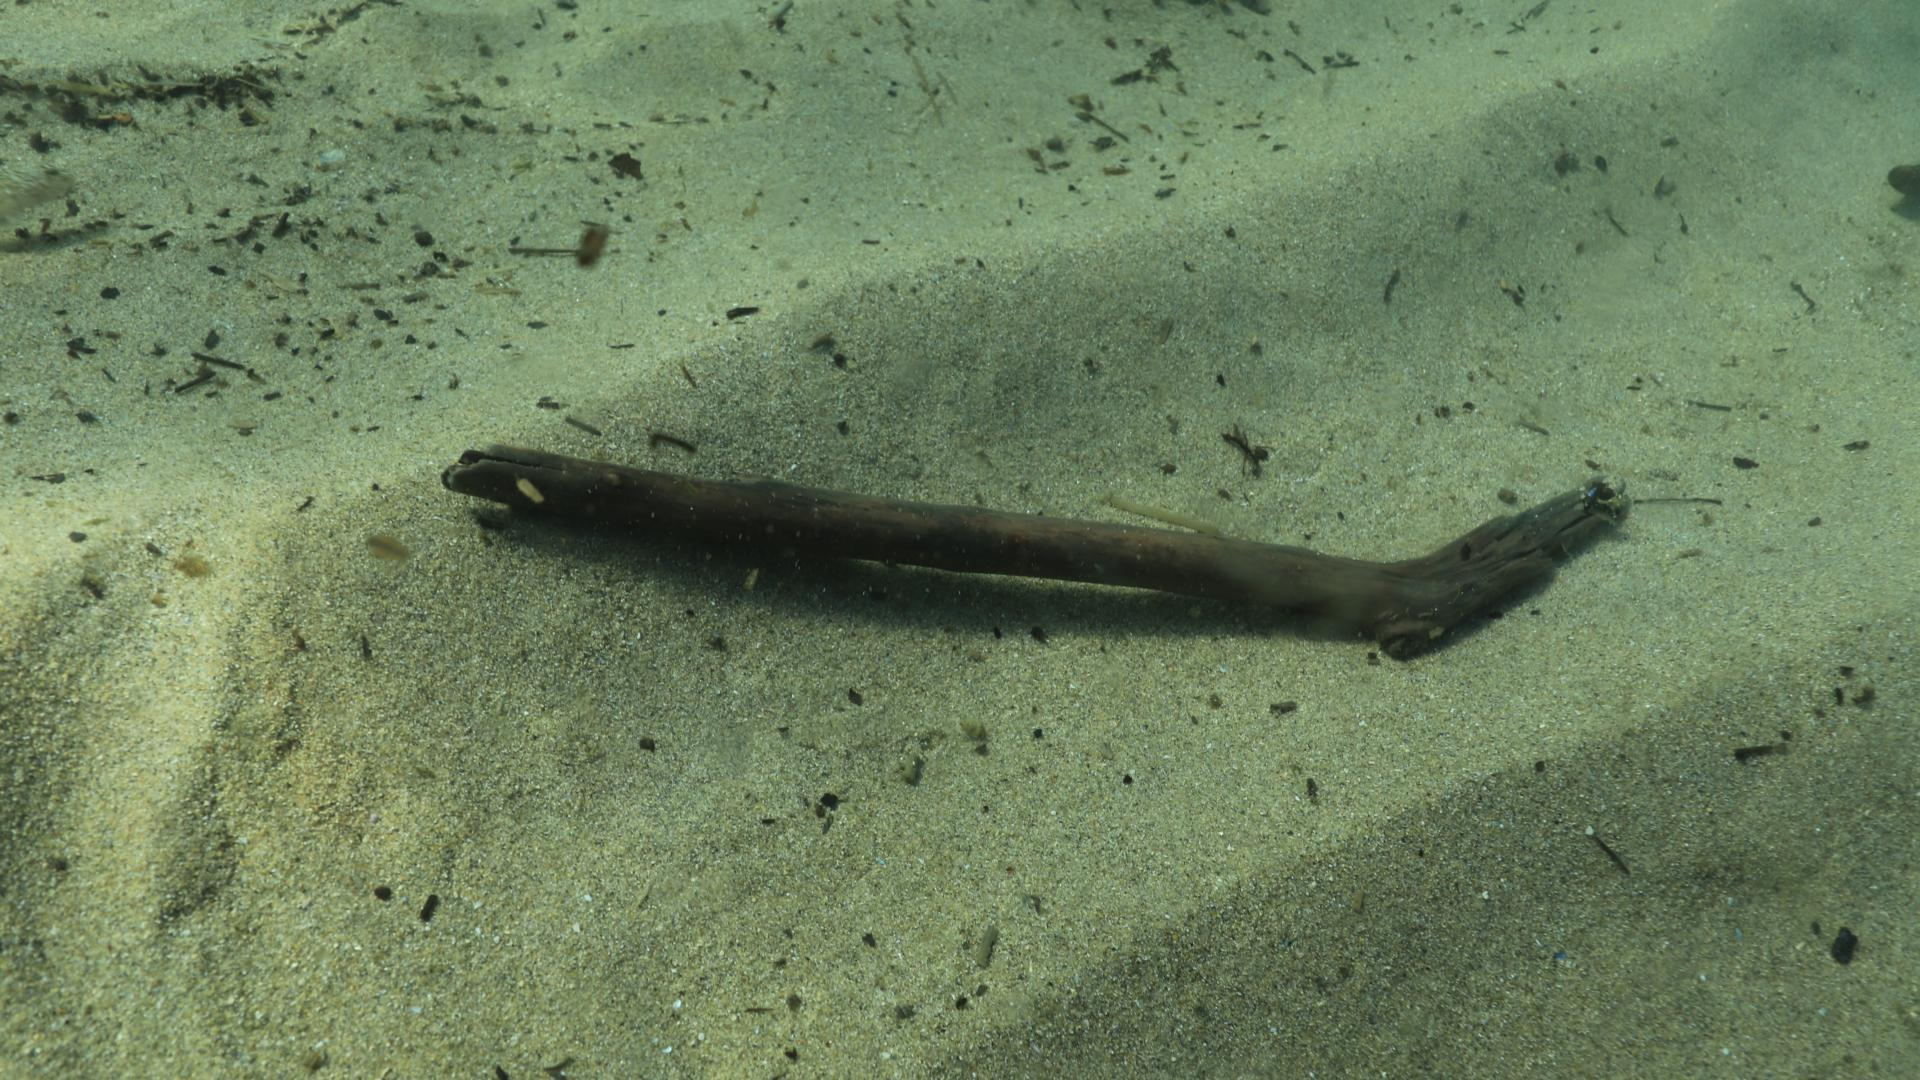wood: (438, 443, 1629, 659)
